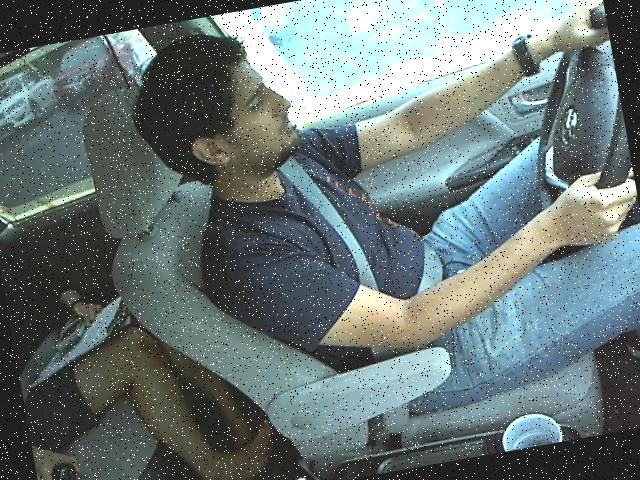c0 - Safe Driving: (125, 0, 639, 391)
